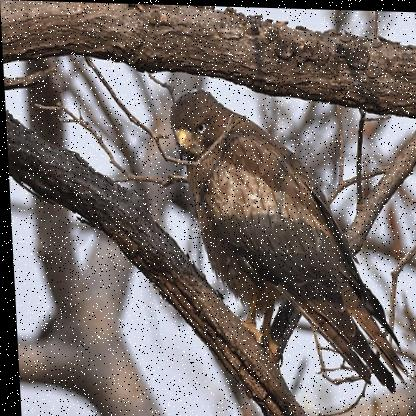Burung: (166, 84, 409, 396)
